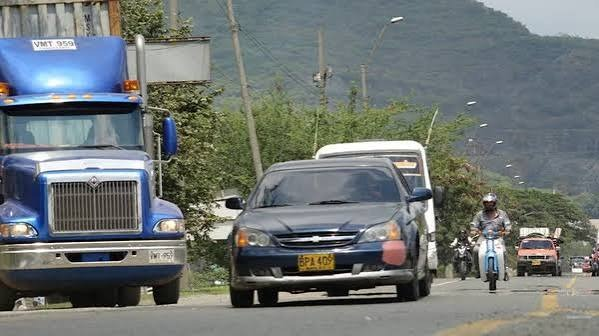car: (2, 28, 187, 307), (3, 35, 188, 308), (224, 150, 446, 309), (225, 151, 447, 307), (449, 232, 527, 278), (512, 234, 563, 277), (576, 257, 594, 274)
